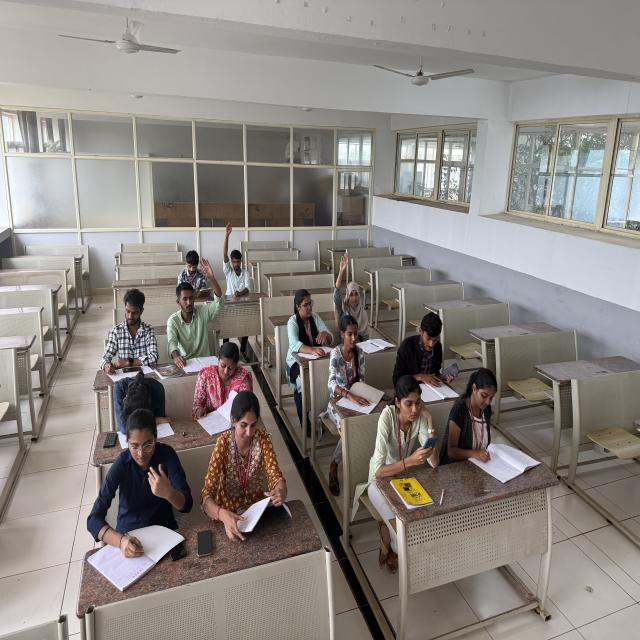Hand Rising: (167, 255, 222, 351), (331, 252, 368, 322), (220, 221, 252, 291)
Reading: (202, 384, 286, 532), (191, 344, 253, 429), (393, 312, 444, 391), (175, 249, 212, 295)
Sleeping: (107, 371, 173, 440)
Using Phone: (370, 374, 440, 474)
Writing: (81, 410, 185, 576), (447, 364, 513, 475), (101, 285, 160, 377)
